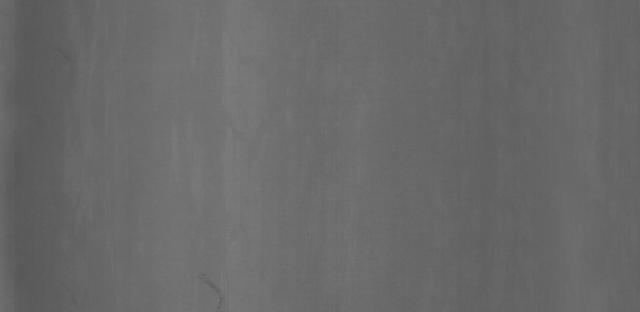water_spot: (195, 252, 244, 312)
